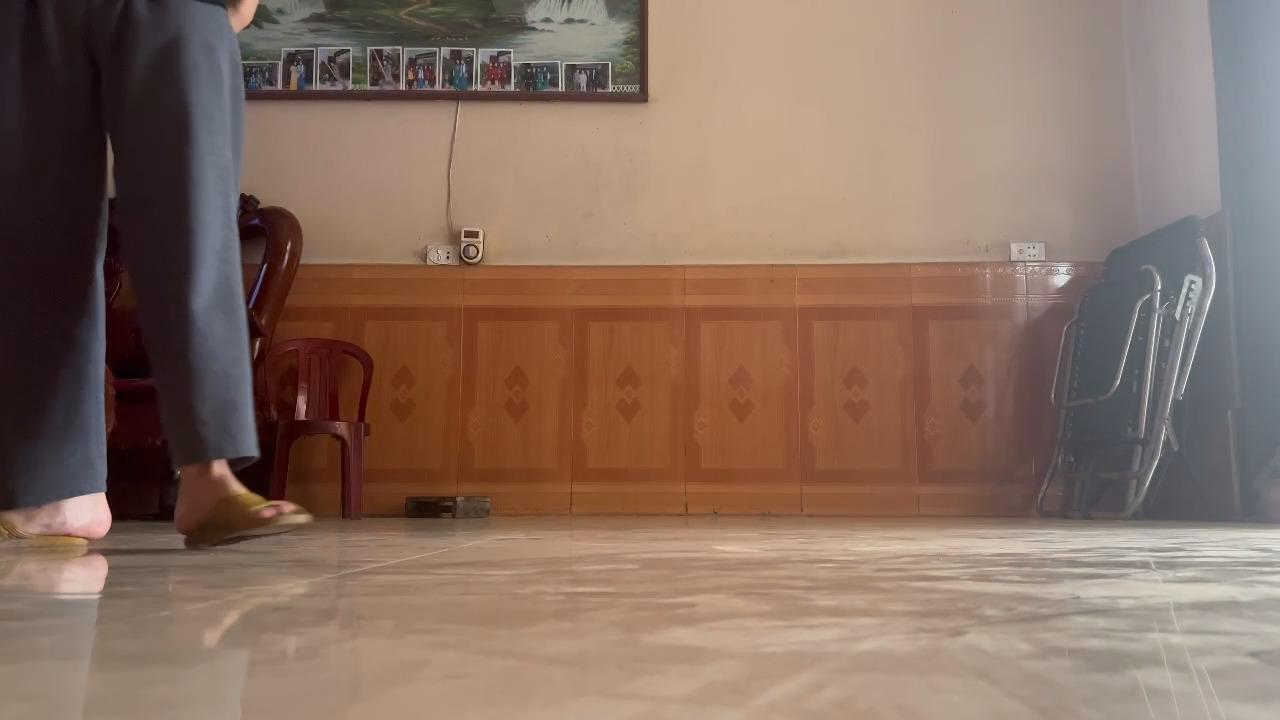no-boot: (165, 489, 318, 554), (0, 486, 120, 559)
